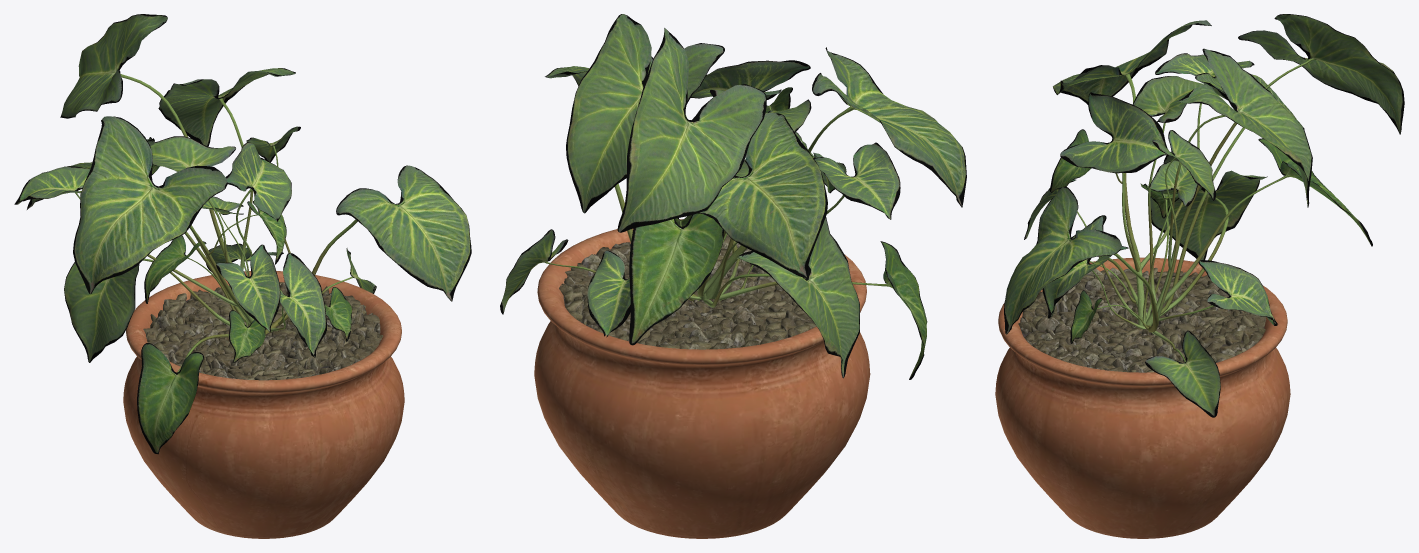
Rendered from potted_plant_02.glb.
3 views of the same model, side by side, from view 1: azimuth 30°, elevation 25°; view 2: azimuth 150°, elevation 25°; view 3: azimuth 270°, elevation 25° (orthographic). The views are drawn at different scales.
Visible parts, largest first — view 1: potted_plant_02; view 2: potted_plant_02; view 3: potted_plant_02.
Part boxes in pixels (bbox=[...]): potted_plant_02: bbox=[14, 14, 471, 538]; potted_plant_02: bbox=[500, 14, 966, 538]; potted_plant_02: bbox=[995, 14, 1404, 538].
Bounding box in the file's own units: 0.7012 × 0.8412 × 0.6574.
2 materials, 2 textured.
